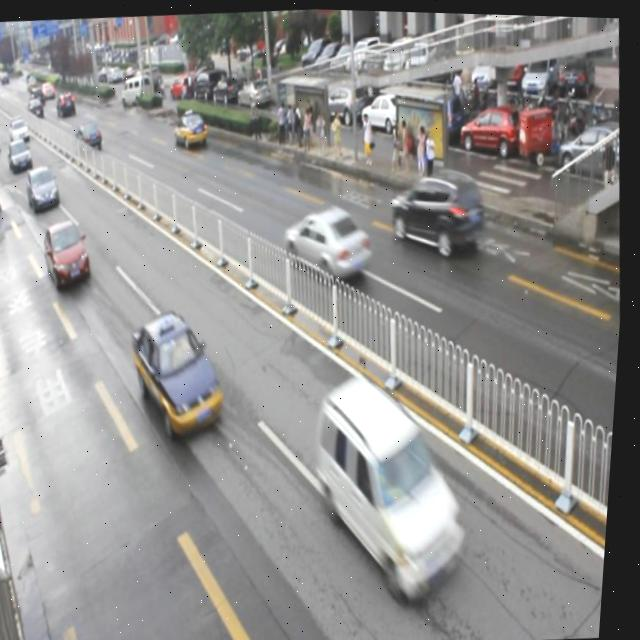car: (310, 368, 487, 605), (129, 304, 235, 440), (386, 170, 491, 259), (283, 201, 377, 282), (42, 217, 98, 290), (25, 162, 64, 214), (172, 104, 210, 149)
